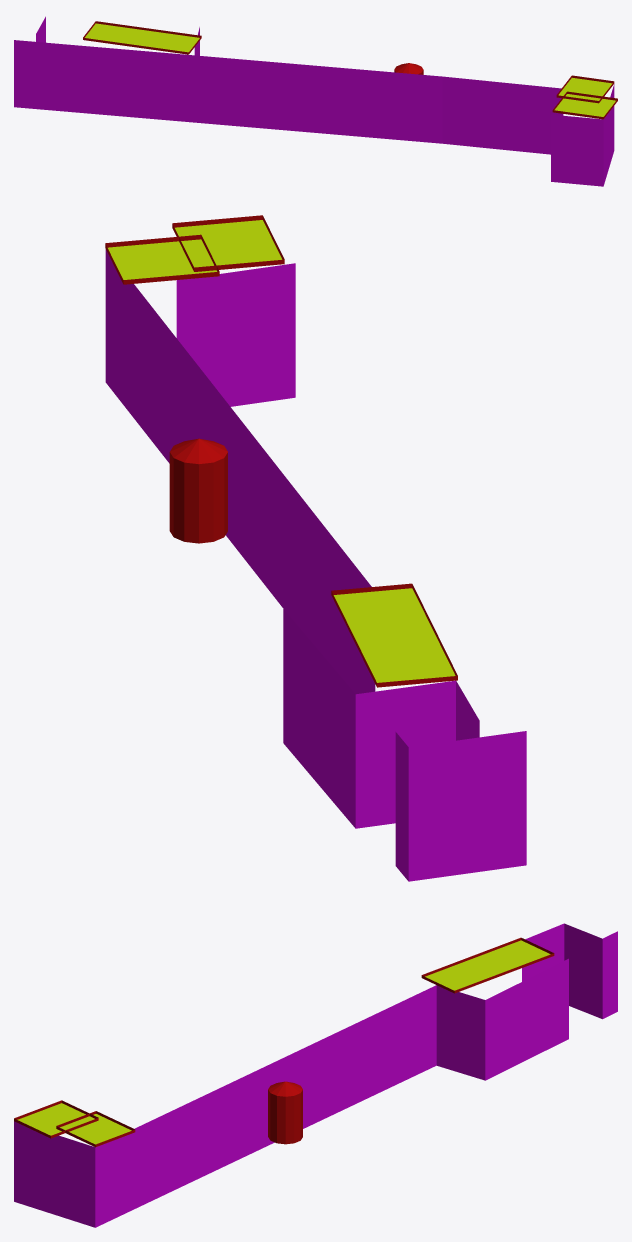
The model's file is ssv_4.glb.
3 views of the same model, one above another, from view 1: azimuth 30°, elevation 25°; view 2: azimuth 150°, elevation 25°; view 3: azimuth 270°, elevation 25° (orthographic). The views are drawn at different scales.
Parts seen in each view (by area): view 1: ssv_4; view 2: ssv_4; view 3: ssv_4.
Boxes of the visible parts, bbox=[...] form: ssv_4: bbox=[14, 16, 617, 186]; ssv_4: bbox=[105, 215, 526, 881]; ssv_4: bbox=[14, 923, 617, 1227].
Bounding box in the file's own units: 64.19 × 10.52 × 69.07.
